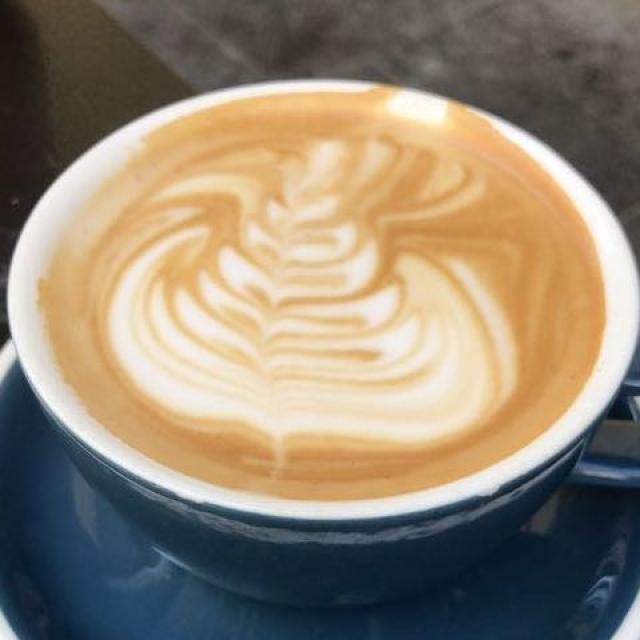cappuccino: (54, 99, 598, 489)
